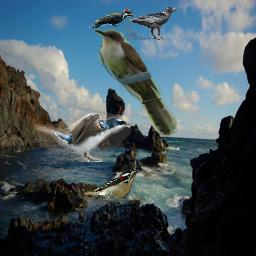Crow: (126, 6, 177, 40)
Cuckoo: (93, 27, 177, 137)
Swallow: (35, 111, 131, 162)
Woodpecker: (83, 168, 140, 200), (89, 9, 135, 28)
